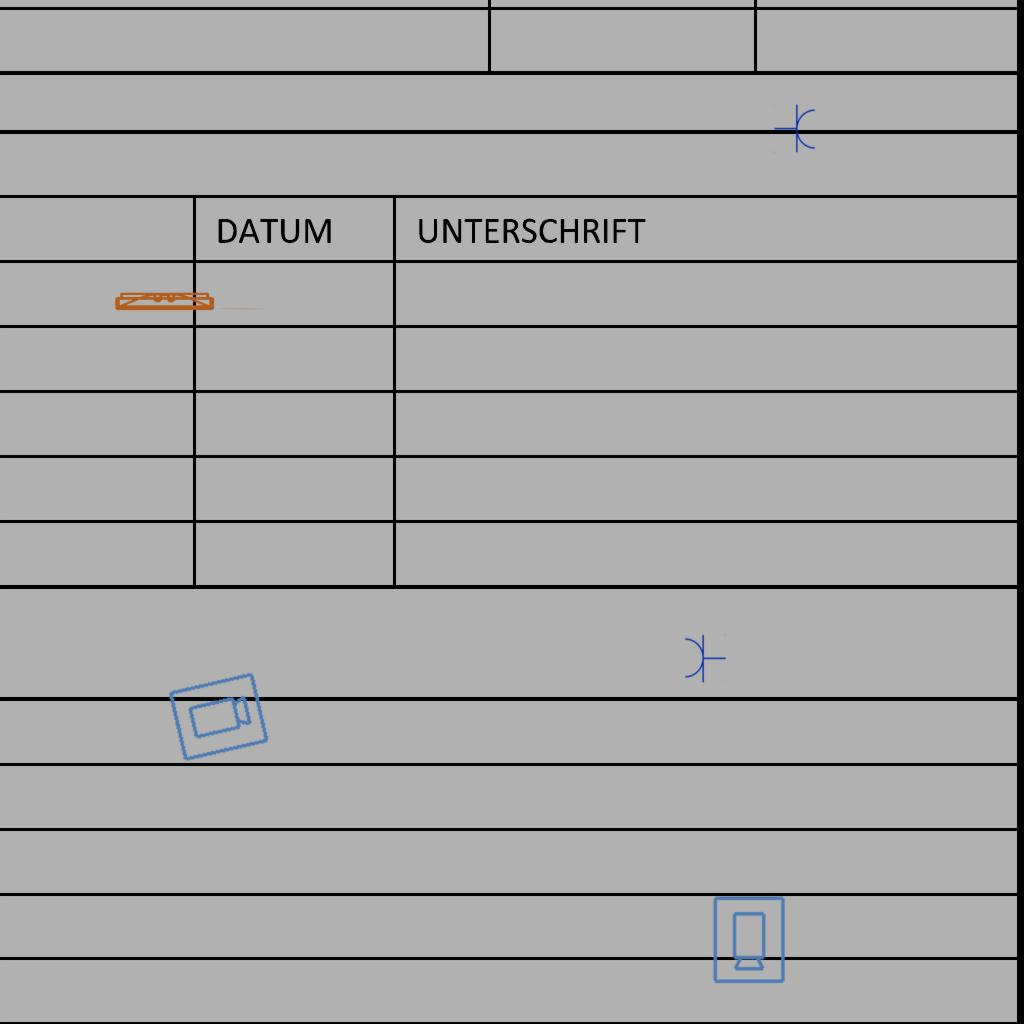KFO_Kamera_mit_Festobjektiv: (165, 669, 272, 766), (710, 894, 787, 985)
Schukosteckdose_einfach: (683, 633, 726, 683), (774, 104, 817, 154)
Sicherheitsleuchte_Wandeinbau: (110, 288, 269, 313)
